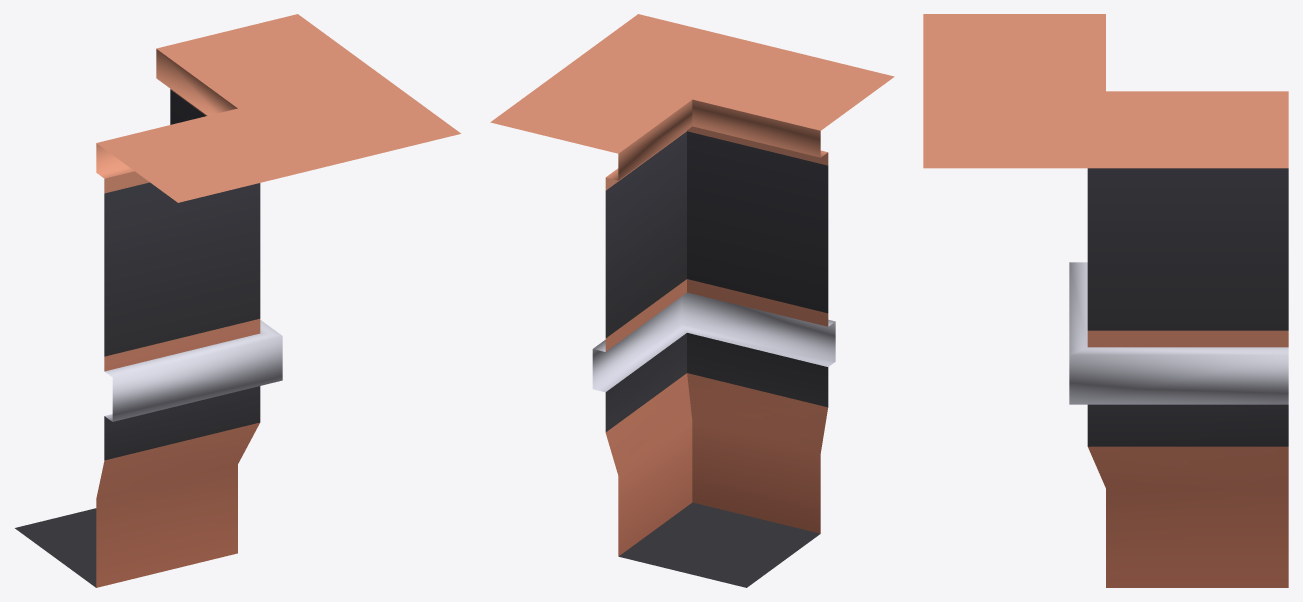
Rendered from structure-corner-inner.obj.
The picture shows the model from 3 angles, left to right: view 1: azimuth 30°, elevation 25°; view 2: azimuth 150°, elevation 25°; view 3: azimuth 270°, elevation 25°; orthographic projection. The views are drawn at different scales.
Parts seen in each view (by area): view 1: structure-corner-inner; view 2: structure-corner-inner; view 3: structure-corner-inner.
Boxes of the visible parts, x1,y1,x2,y2 form: structure-corner-inner: (15,14,460,587); structure-corner-inner: (490,14,894,587); structure-corner-inner: (923,14,1288,587).
Bounding box in the file's own units: 2 × 3 × 2.
